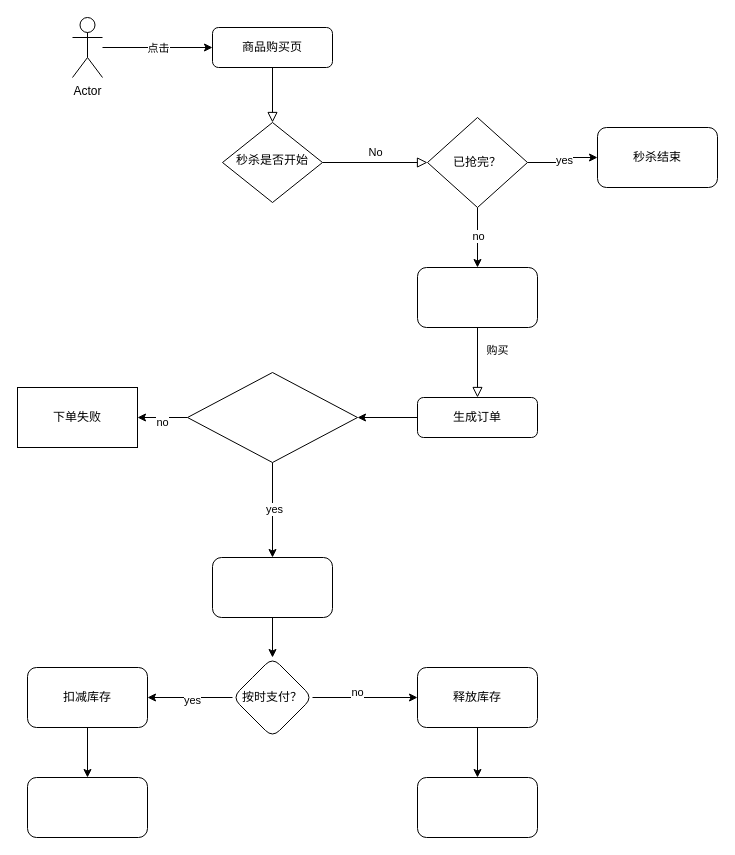
Some shapes in this 735 by 855 pixel diagram are drawn without their labels. The centre of each missing label's shape, as x and y in pixels:
"创建订单且锁定库存成功？" goes at pixel 272 417.
"展示购买按钮" goes at pixel 477 297.
"支付倒计时" goes at pixel 272 587.
"购买失败" goes at pixel 477 807.
"购买成功" goes at pixel 87 807.
